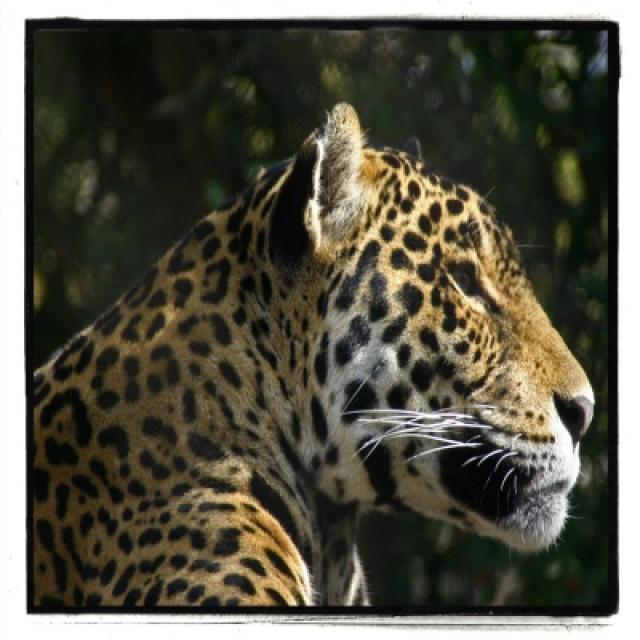Jaguar: (26, 102, 597, 616)
